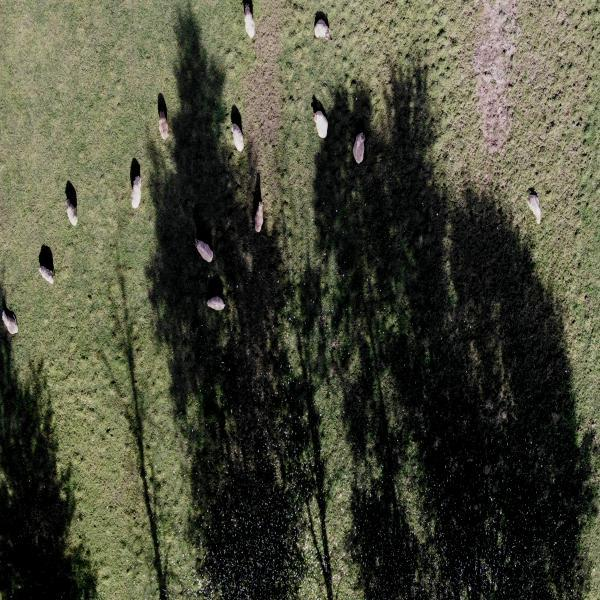sheep: (152, 100, 177, 151), (309, 104, 330, 150), (236, 3, 260, 43), (207, 280, 230, 320), (0, 302, 21, 345), (251, 195, 270, 239), (352, 126, 372, 167), (525, 187, 544, 229), (193, 235, 216, 268), (230, 120, 248, 160), (35, 259, 57, 290), (64, 201, 80, 241), (315, 12, 335, 44), (129, 177, 143, 211)
